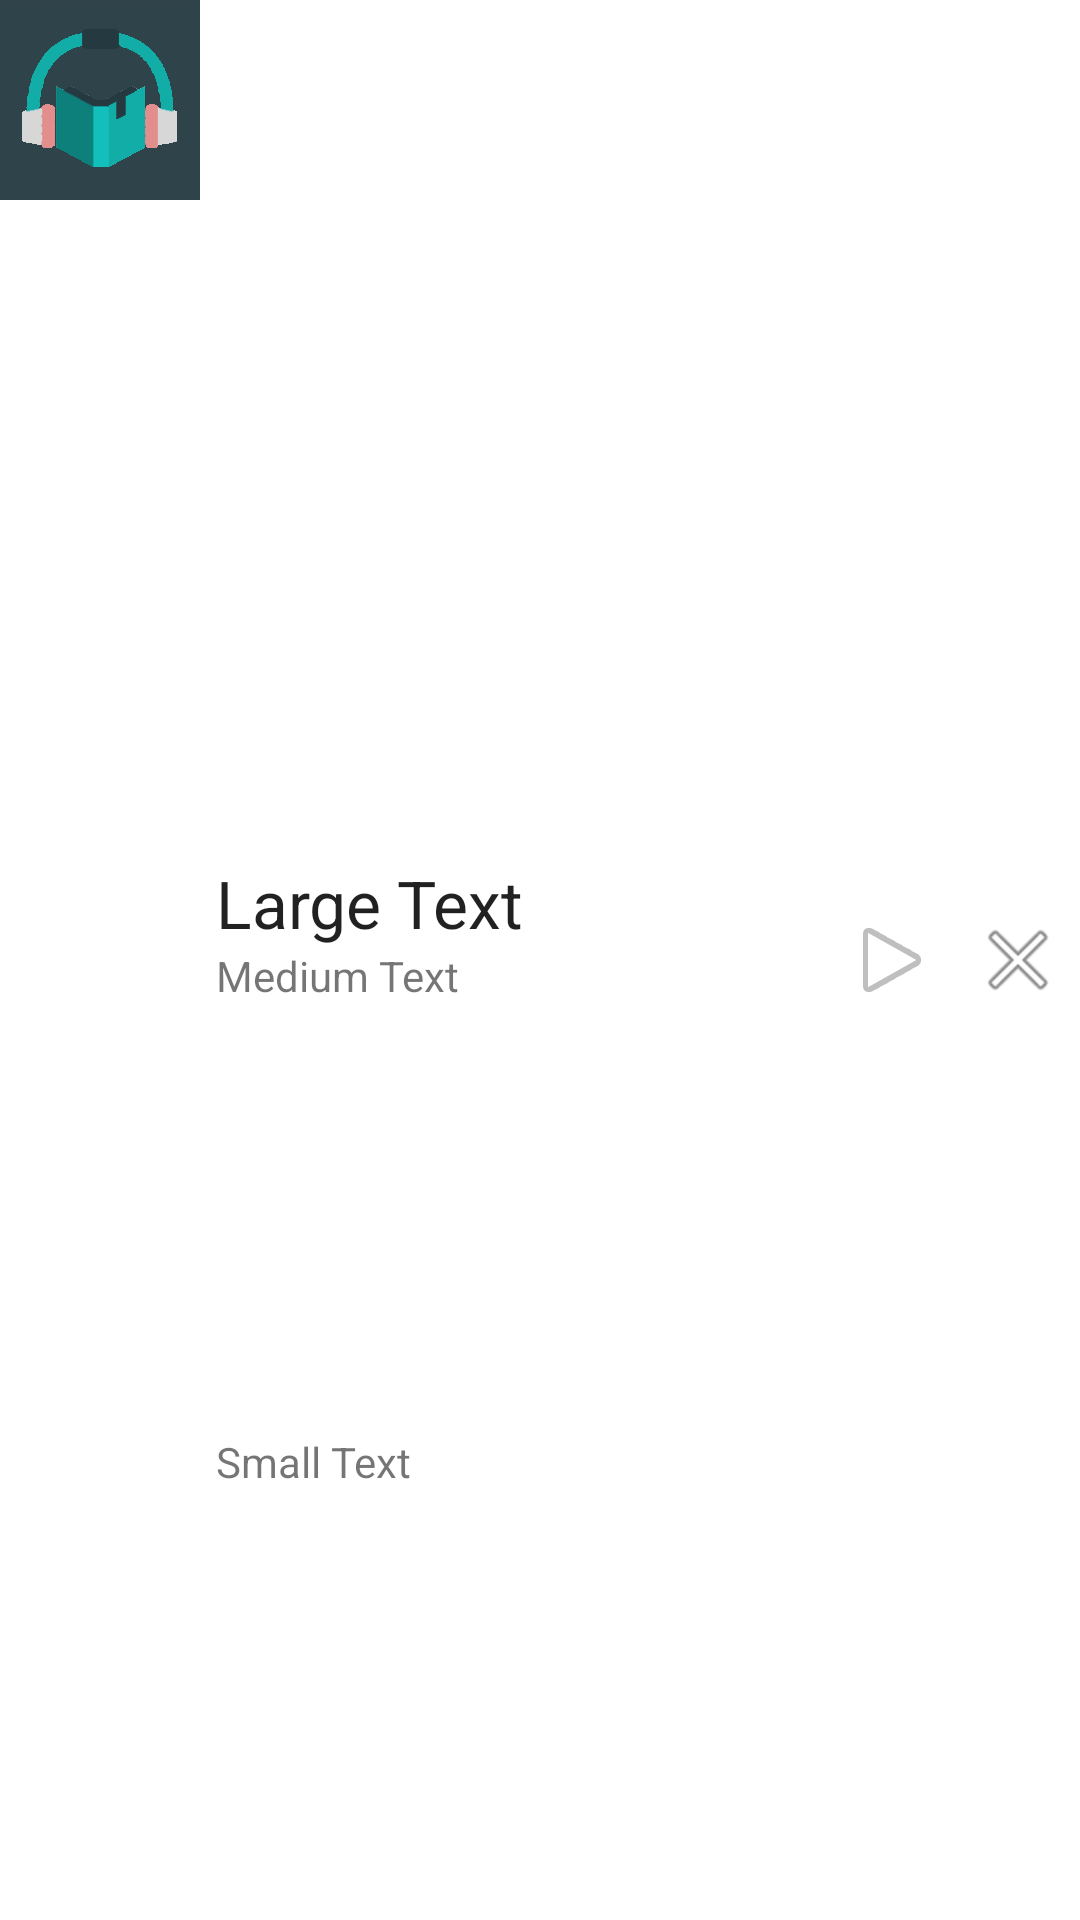

Where icons sit on this 1080×1920 app screen, as (x1, y1, x2, y2):
close clear cancel: (988, 930, 1048, 990)
play: (863, 928, 921, 992)
